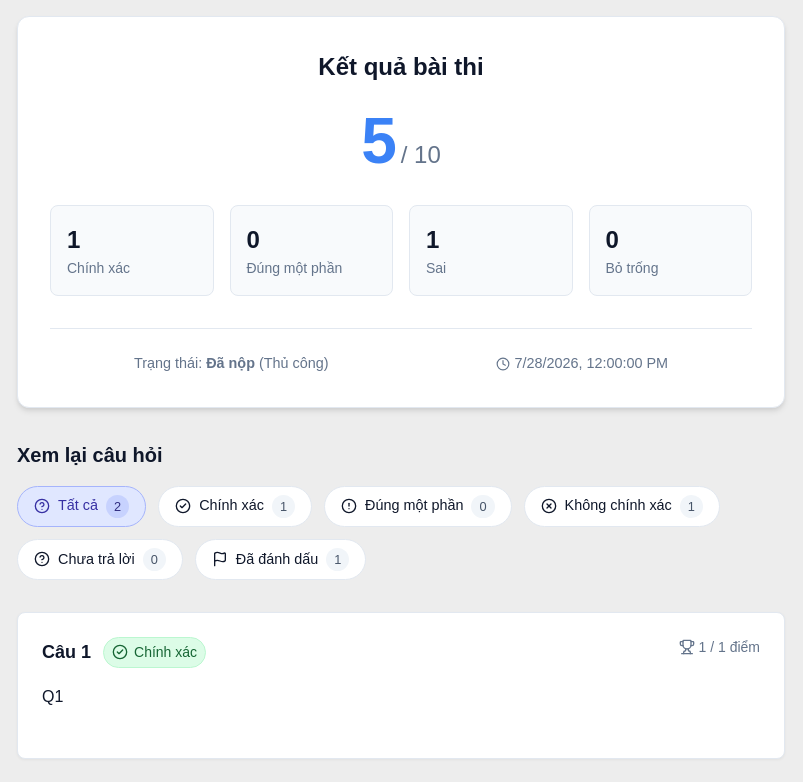
Test: ExamResultReview › displays empty state when no questions match filter
What coordinates should you click on to do the following:
click the button "Chưa trả lời 0"
I would click on:
 (100, 559)
Its box is x1=17 y1=539 x2=183 y2=580.
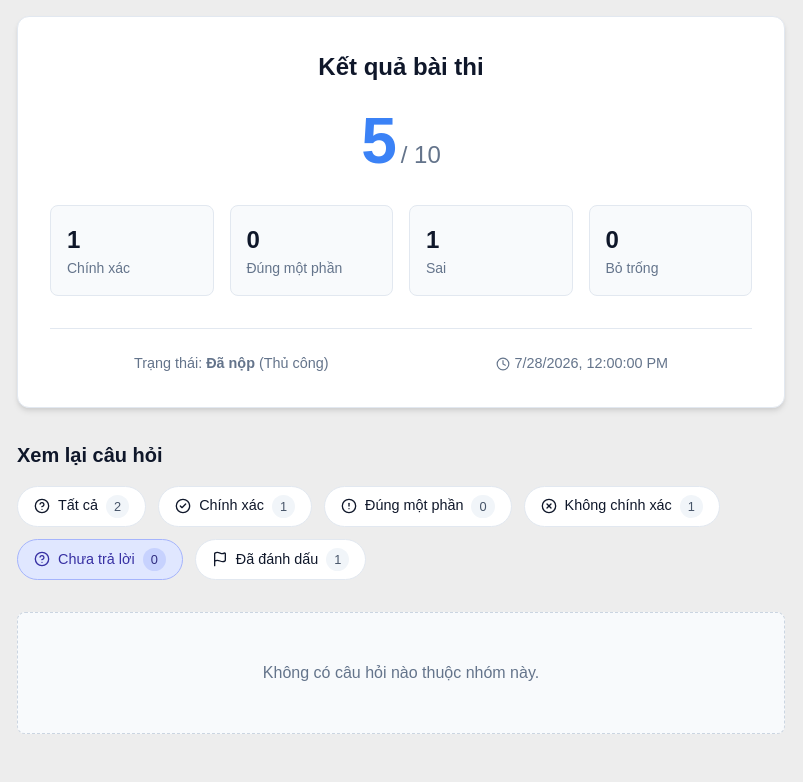
Expected: the text "Q1" is gone
Expected: the text "Không có câu hỏi nào thuộc nhóm này." is shown, x1=17 y1=612 x2=785 y2=734
